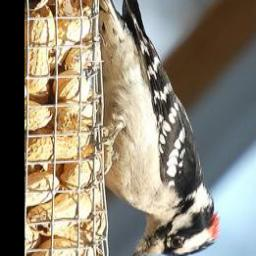Woodpecker: (91, 0, 222, 256)
